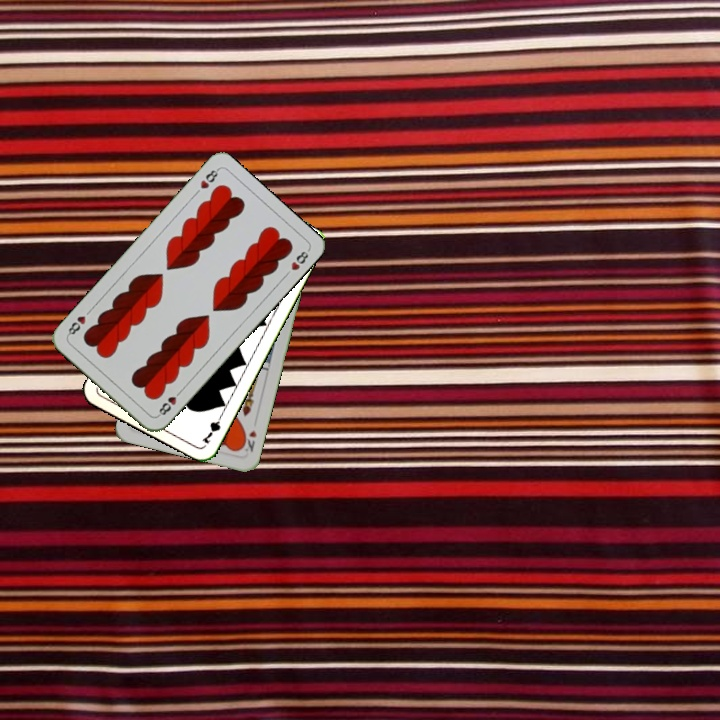G7: (198, 409, 226, 446)
H8: (154, 386, 185, 419), (196, 165, 222, 191)
HK: (237, 426, 259, 455)
